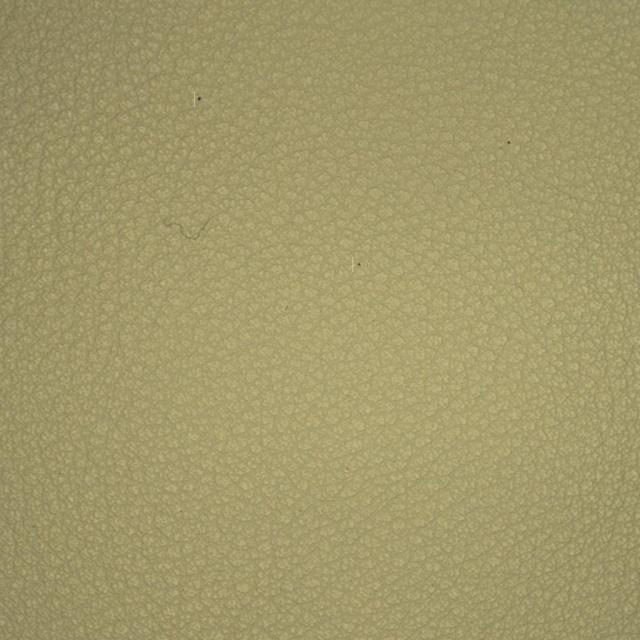Bacterial Injury: (121, 140, 252, 340)
pinhole: (302, 194, 419, 335), (116, 46, 264, 144)
